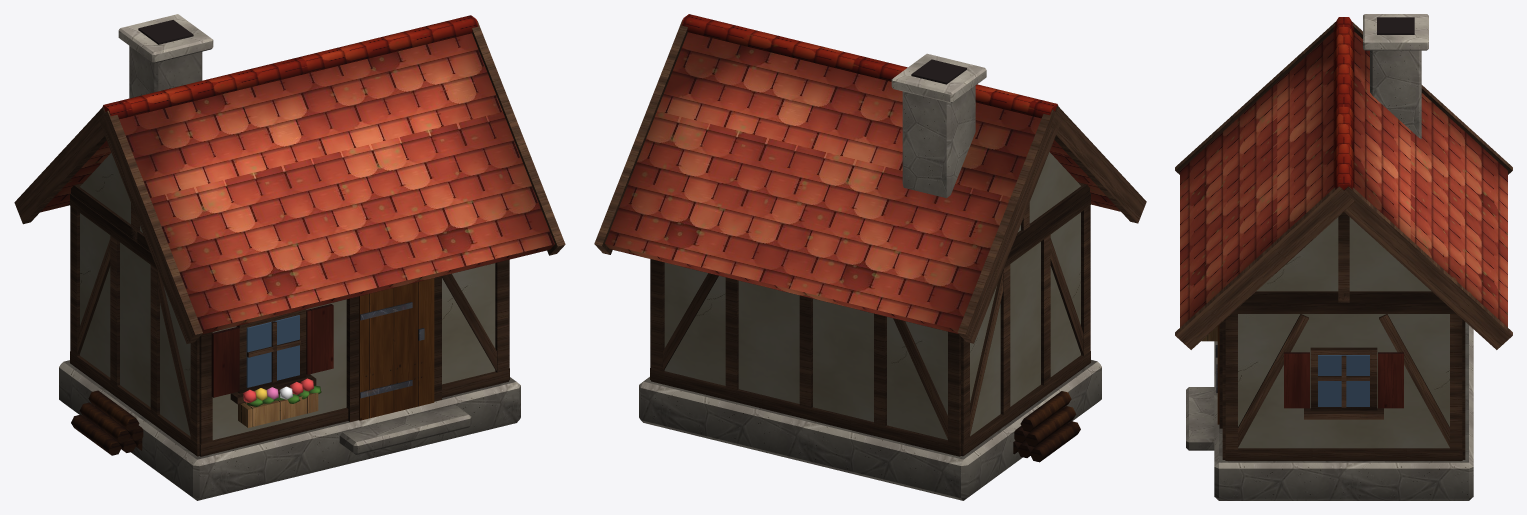
Rendered from town_house_small.glb.
3 views of the same model, side by side, from view 1: azimuth 30°, elevation 25°; view 2: azimuth 150°, elevation 25°; view 3: azimuth 270°, elevation 25° (orthographic). The views are drawn at different scales.
Visible parts, largest first — view 1: town_house_small; view 2: town_house_small; view 3: town_house_small.
Boxes of the visible parts, <box> form: town_house_small: <box>14,14,565,500</box>; town_house_small: <box>594,14,1146,500</box>; town_house_small: <box>1175,14,1512,500</box>.
Size of the model in its own units: 4.35 by 4.2 by 3.58.
9 materials, 7 textured.
